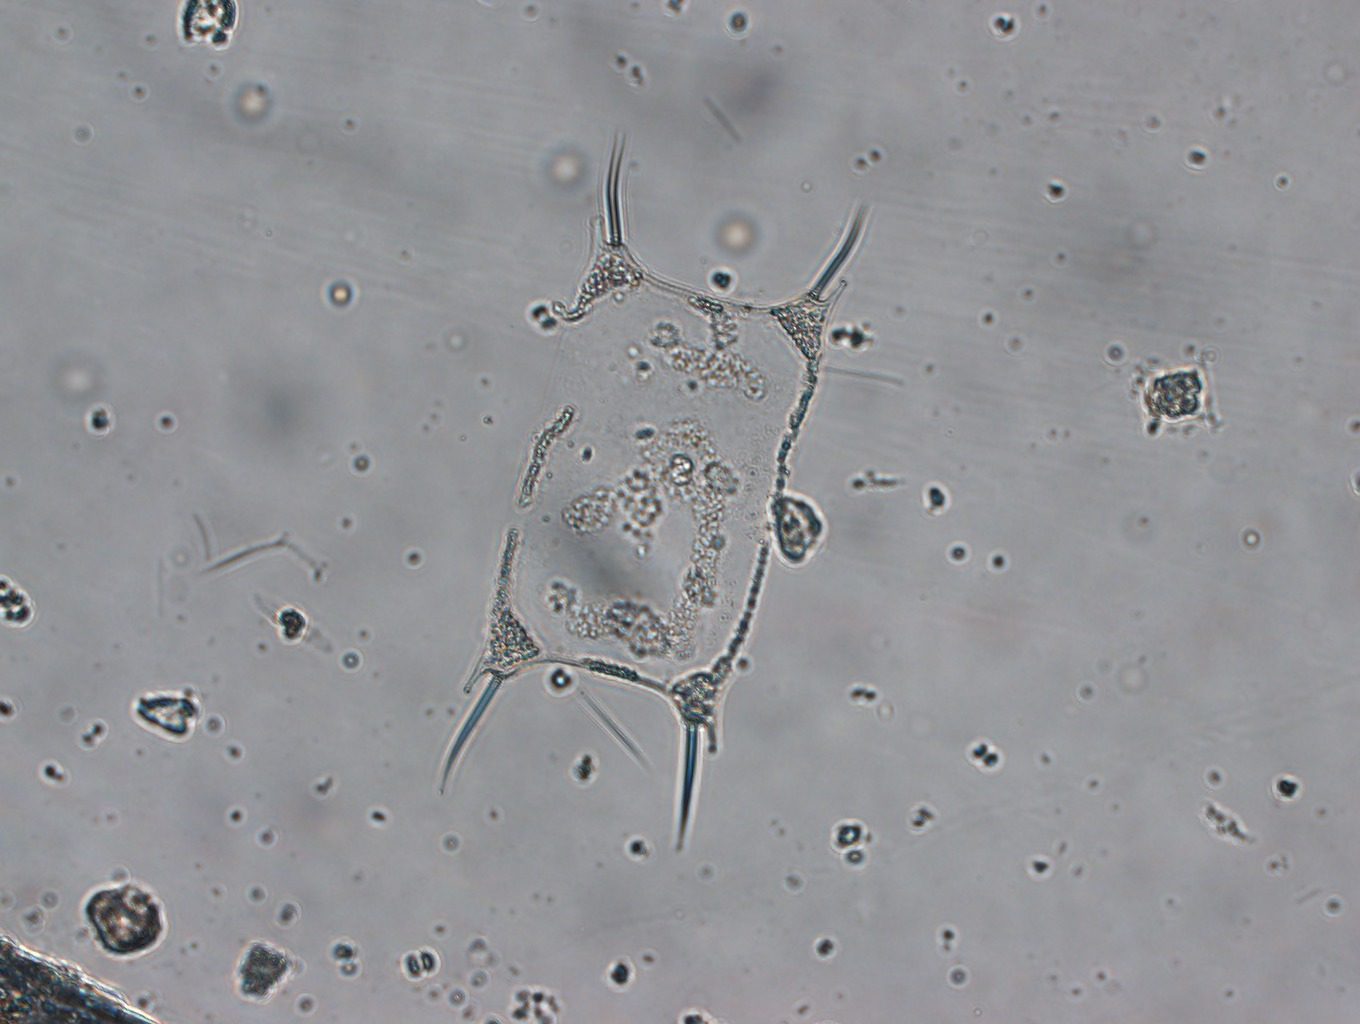biddulphia: (436, 128, 871, 849)
